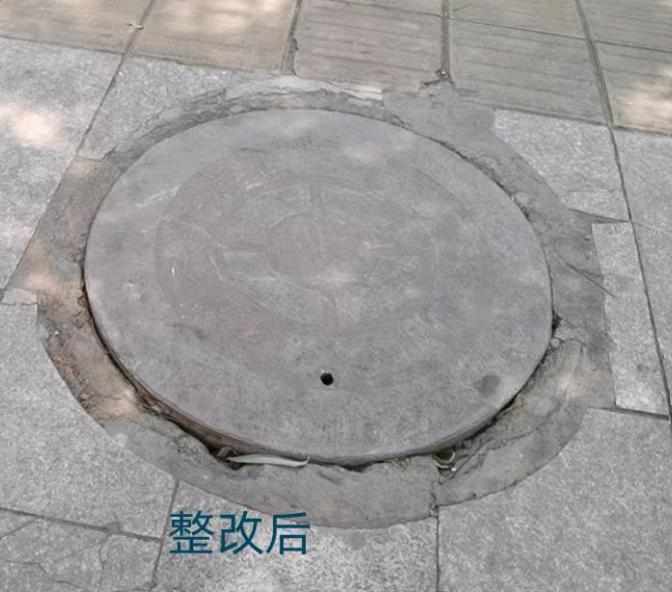wellcover: (68, 73, 617, 496)
